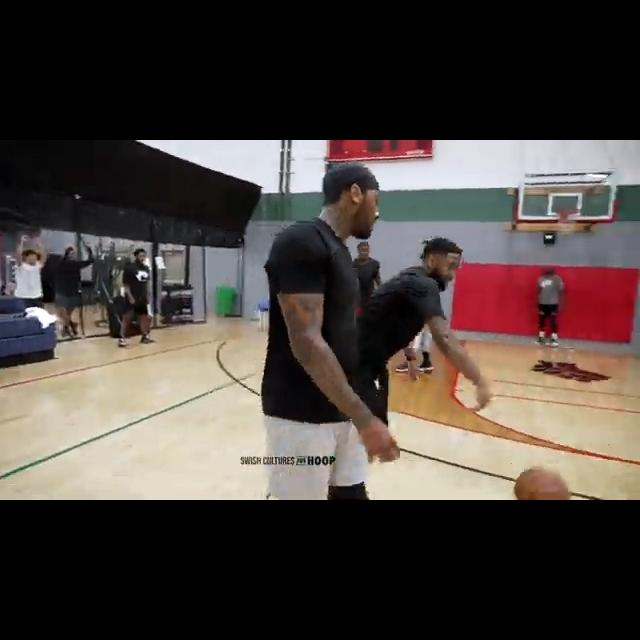basketball: (514, 467, 570, 500)
hoop: (554, 208, 582, 235)
person: (259, 162, 396, 500), (353, 229, 495, 455), (116, 247, 158, 347), (54, 245, 88, 345), (348, 239, 383, 326), (14, 246, 47, 318), (535, 266, 563, 347)
